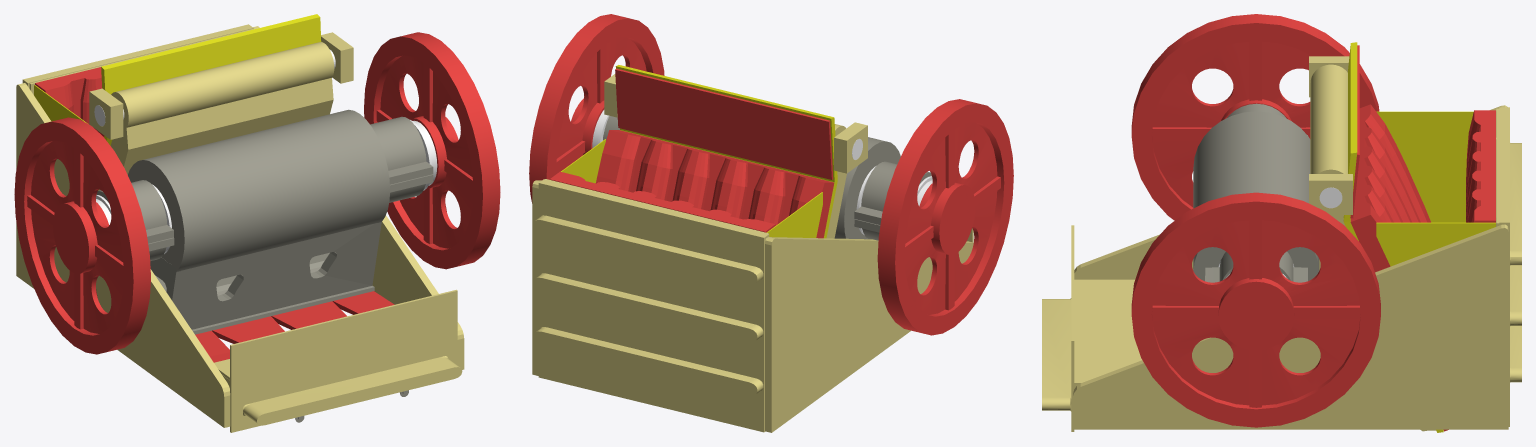
File: molinoEnsamble.glb
3 renders of one model, left to right at view 1: azimuth 30°, elevation 25°; view 2: azimuth 150°, elevation 25°; view 3: azimuth 270°, elevation 25°, orthographic. The views are drawn at different scales.
Parts seen in each view (by area): view 1: Base, rueda2, base, rueda1, placa2, cilindro externo, placa base, placa externa, flexor2, placa1, prensa1, prensa2 (+6 smaller); view 2: Placa externa, rueda2, placa2, placa superior, Placa de mandibula movil, rueda1, Placa de mandibula fija, Base, placa externa, prensa2, lateral derecha, prensa2.001 (+5 smaller); view 3: rueda1, placa1, rueda2, Base, base, lateral derecha, Placa de mandibula movil, Placa externa, cilindro externo, Placa de mandibula fija, lateral izquierda, placa2 (+6 smaller).
Boxes of the visible parts, x1=… form: Base: x1=128, y1=109, x2=390, y2=334; rueda2: x1=14, y1=117, x2=150, y2=354; base: x1=214, y1=289, x2=462, y2=432; rueda1: x1=364, y1=32, x2=500, y2=269; placa2: x1=16, y1=83, x2=230, y2=427; cilindro externo: x1=111, y1=42, x2=334, y2=129; placa base: x1=99, y1=78, x2=333, y2=190; placa externa: x1=98, y1=14, x2=321, y2=190; flexor2: x1=195, y1=291, x2=394, y2=362; placa1: x1=253, y1=26, x2=464, y2=369; prensa1: x1=370, y1=116, x2=433, y2=202; prensa2: x1=96, y1=180, x2=174, y2=260; Placa externa: x1=533, y1=179, x2=769, y2=432; rueda2: x1=877, y1=99, x2=1013, y2=335; placa2: x1=765, y1=237, x2=973, y2=432; placa superior: x1=615, y1=68, x2=833, y2=179; Placa de mandibula movil: x1=595, y1=130, x2=834, y2=238; rueda1: x1=529, y1=14, x2=664, y2=203; Placa de mandibula fija: x1=549, y1=171, x2=775, y2=232; Base: x1=834, y1=137, x2=900, y2=239; placa externa: x1=615, y1=65, x2=837, y2=238; prensa2: x1=854, y1=161, x2=931, y2=240; lateral derecha: x1=766, y1=192, x2=822, y2=237; prensa2.001: x1=834, y1=122, x2=867, y2=173; rueda1: x1=1131, y1=192, x2=1380, y2=427; placa1: x1=1073, y1=224, x2=1508, y2=429; rueda2: x1=1131, y1=14, x2=1379, y2=220; Base: x1=1193, y1=111, x2=1319, y2=281; base: x1=1042, y1=225, x2=1141, y2=431; lateral derecha: x1=1376, y1=111, x2=1473, y2=222; Placa de mandibula movil: x1=1350, y1=104, x2=1448, y2=431; Placa externa: x1=1499, y1=107, x2=1521, y2=426; cilindro externo: x1=1310, y1=64, x2=1347, y2=173; Placa de mandibula fija: x1=1466, y1=110, x2=1495, y2=222; lateral izquierda: x1=1376, y1=222, x2=1495, y2=266; placa2: x1=1074, y1=105, x2=1507, y2=279.
Size of the model in its own units: 3.61 by 2.49 by 3.85.
